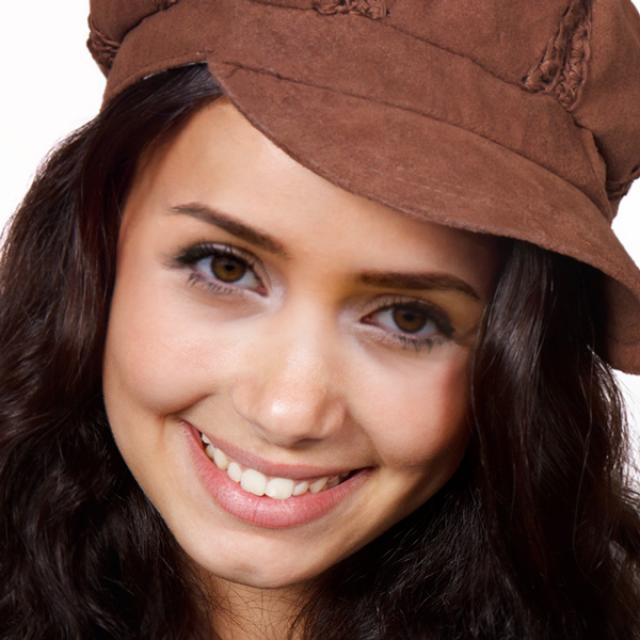face: (104, 88, 521, 604)
